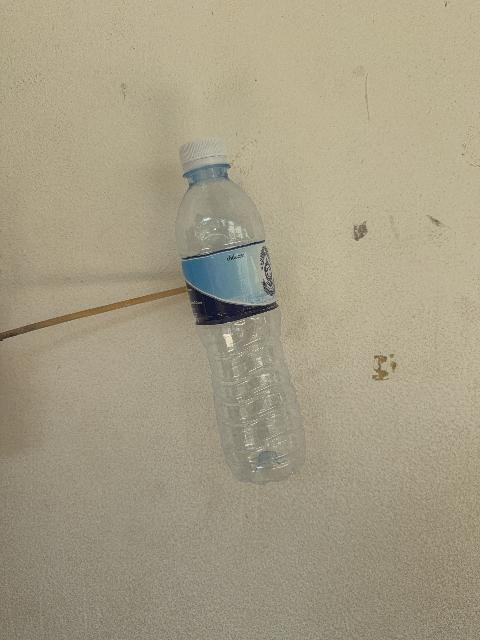bottle: (176, 138, 305, 483)
